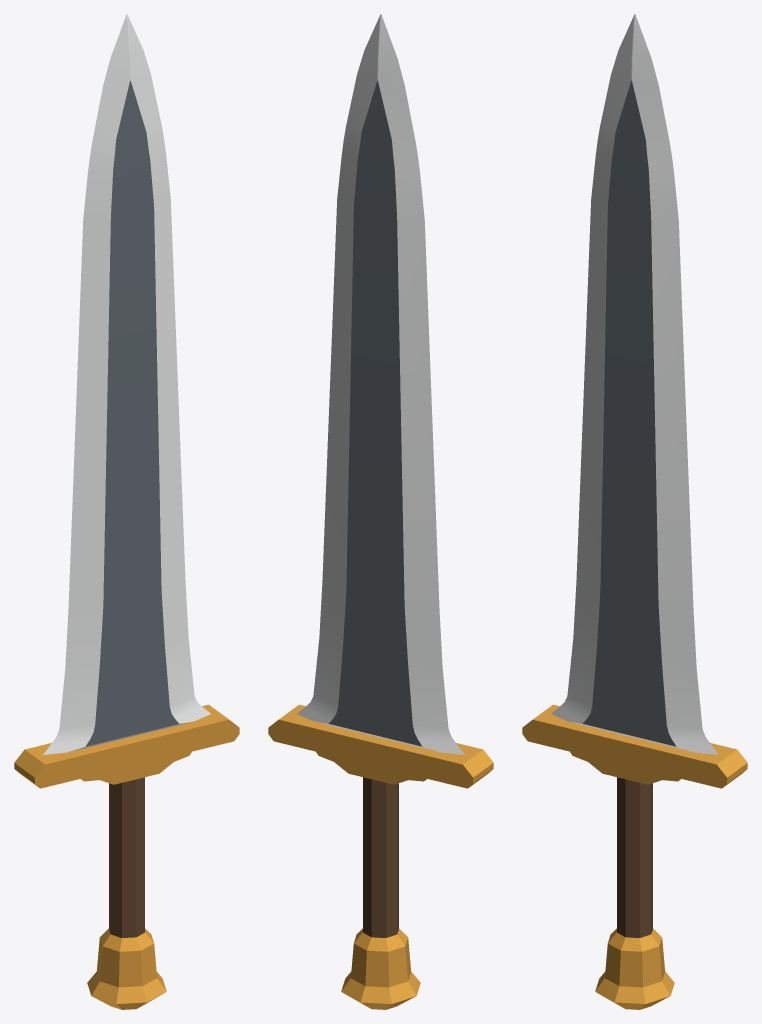
File: one_handed_sword_1.fbx
3 renders of one model, left to right at view 1: azimuth 30°, elevation 25°; view 2: azimuth 150°, elevation 25°; view 3: azimuth 330°, elevation 25°, orthographic.
Parts seen in each view (by area): view 1: one_handed_sword_1; view 2: one_handed_sword_1; view 3: one_handed_sword_1.
Part boxes in pixels (x1,y1,x2,y2): one_handed_sword_1: [14, 14, 239, 1009]; one_handed_sword_1: [268, 14, 493, 1009]; one_handed_sword_1: [522, 14, 747, 1009].
Size of the model in its own units: 0.3005 by 1.38 by 0.1047.
Materials: 1 (1 with a texture image).
